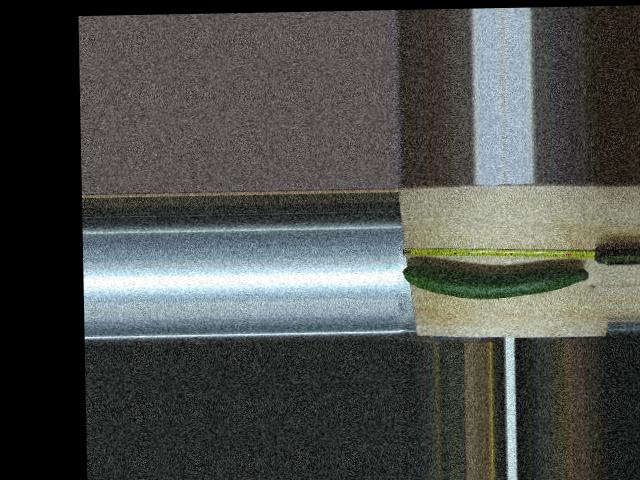cucumber: (403, 260, 589, 300)
